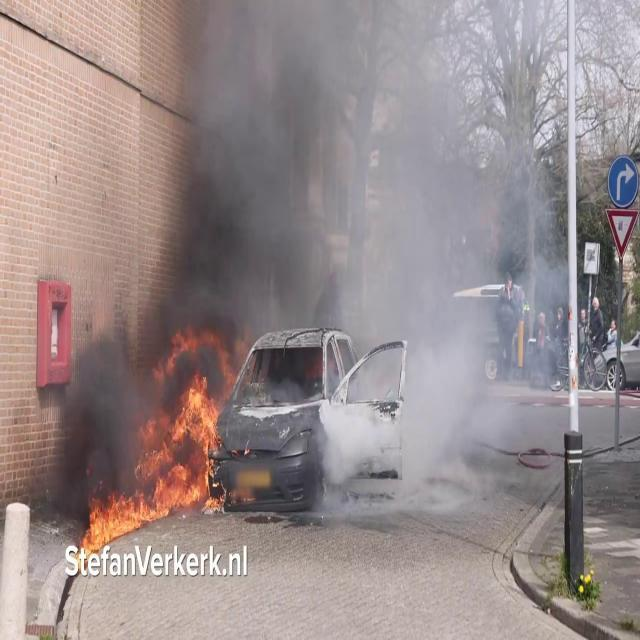Fire: (135, 350, 230, 514), (74, 487, 156, 567)
Smoke: (125, 0, 565, 462), (34, 301, 158, 514)
